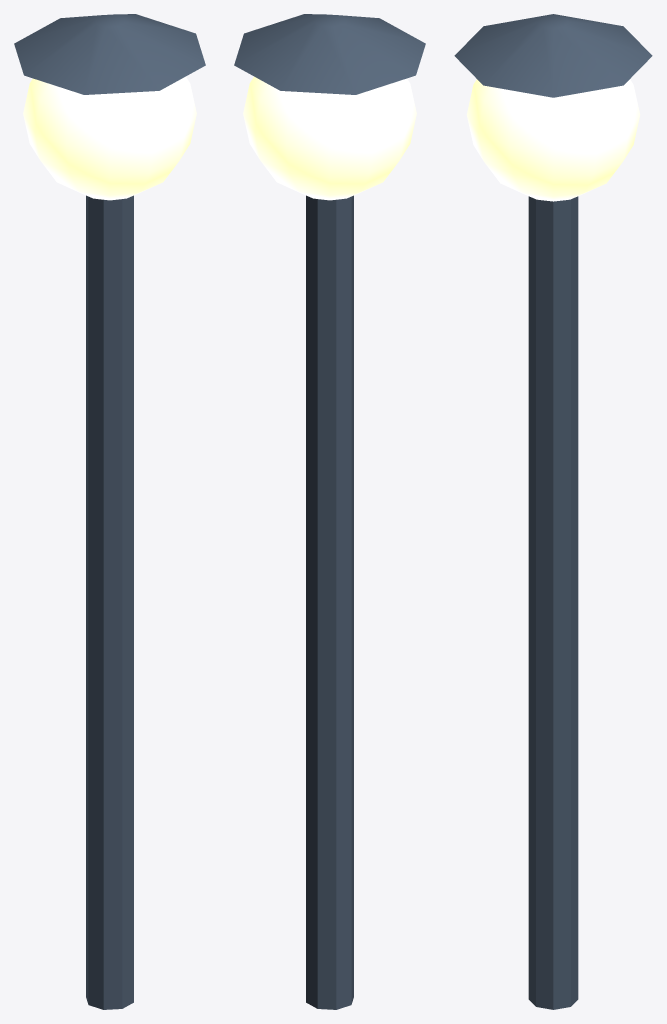
Rendered from ENV_LampPost.glb.
The picture shows the model from 3 angles, left to right: view 1: azimuth 30°, elevation 25°; view 2: azimuth 150°, elevation 25°; view 3: azimuth 270°, elevation 25°; orthographic projection.
Visible parts, largest first — view 1: Pole, Lamp, Hat; view 2: Pole, Lamp, Hat; view 3: Pole, Lamp, Hat.
Boxes of the visible parts, x1,y1,x2,y2 form: Pole: [86, 195, 133, 1009]; Lamp: [23, 76, 196, 200]; Hat: [14, 14, 205, 94]; Pole: [306, 195, 353, 1009]; Lamp: [243, 76, 416, 200]; Hat: [234, 14, 425, 94]; Pole: [528, 196, 578, 1009]; Lamp: [466, 79, 640, 201]; Hat: [454, 14, 652, 97].
Bounding box in the file's own units: 0.64 × 3.48 × 0.64.
